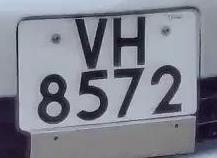2: (146, 64, 187, 119)
5: (69, 62, 115, 129)
7: (109, 64, 148, 124)
8: (31, 65, 76, 129)
H: (106, 10, 154, 75)
V: (63, 10, 112, 76)
